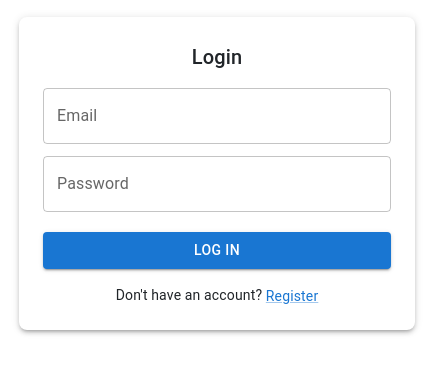
it: LoginForm Component › shows error on invalid email
Type "invalid-email" into the field labelled "Email" at [217, 116], box [43,88,391,144]
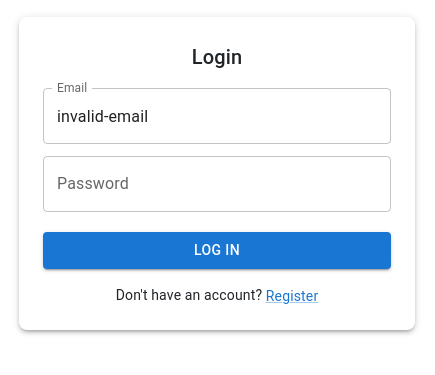
Leave the field labelled "Email", box [43,88,391,144]
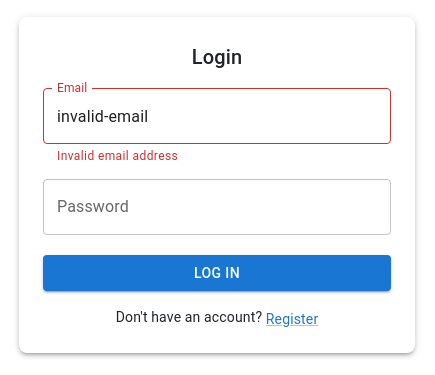
expect the text "Invalid email address" is shown: met, box [57,149,178,163]
